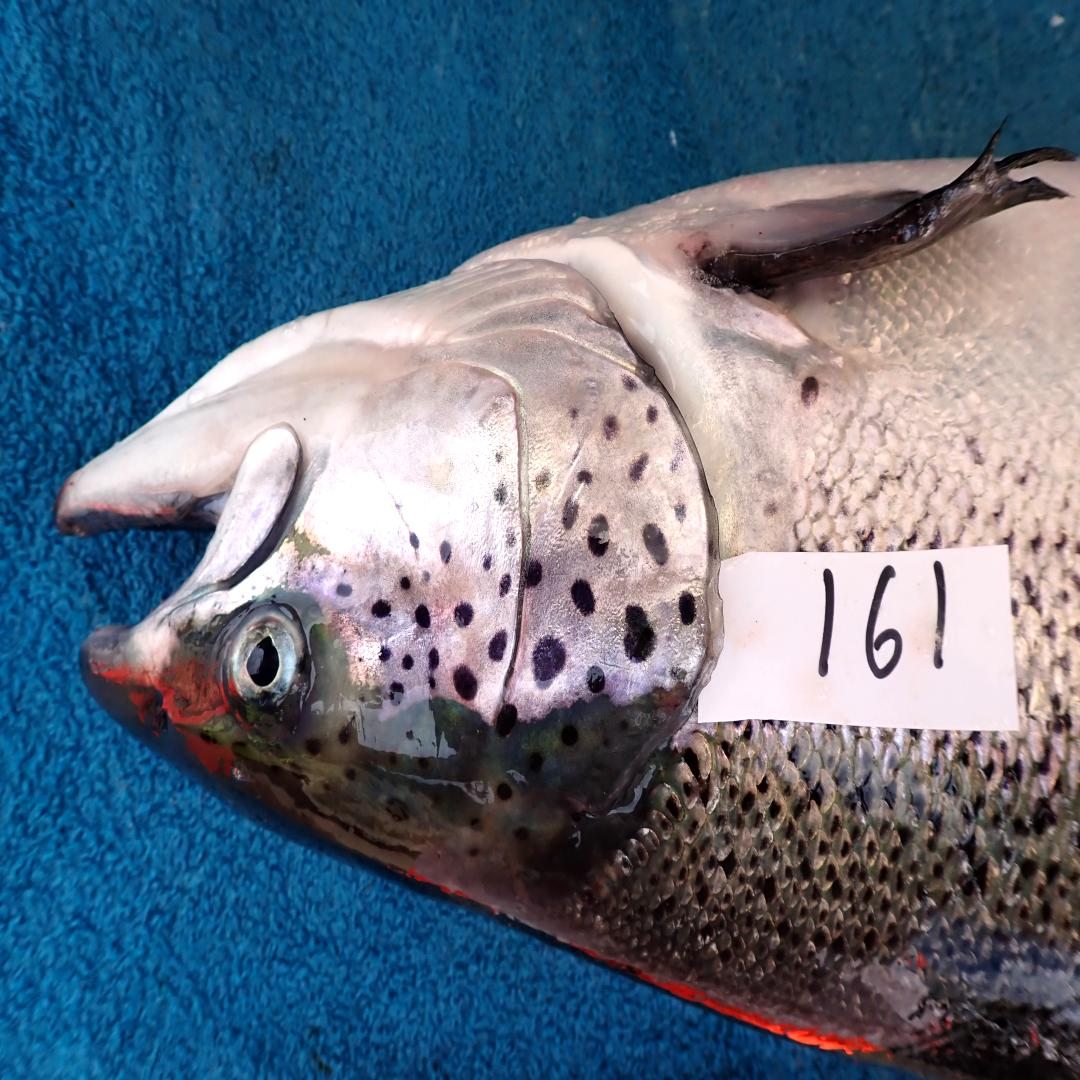roi: (304, 246, 720, 720)
